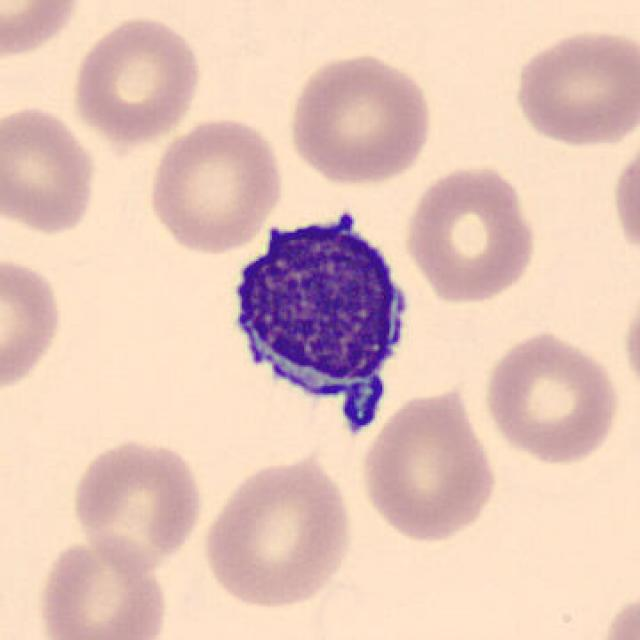Lymphocyte: (214, 192, 422, 441)
RBC: (198, 449, 358, 612), (356, 379, 502, 547), (284, 47, 438, 187), (144, 112, 288, 255), (478, 326, 624, 467), (400, 160, 540, 305), (68, 432, 206, 575), (68, 10, 206, 146), (508, 25, 636, 150), (32, 534, 172, 640), (0, 102, 101, 238), (0, 252, 68, 397), (0, 0, 85, 61), (608, 134, 640, 266), (618, 280, 640, 405), (594, 585, 638, 640)
